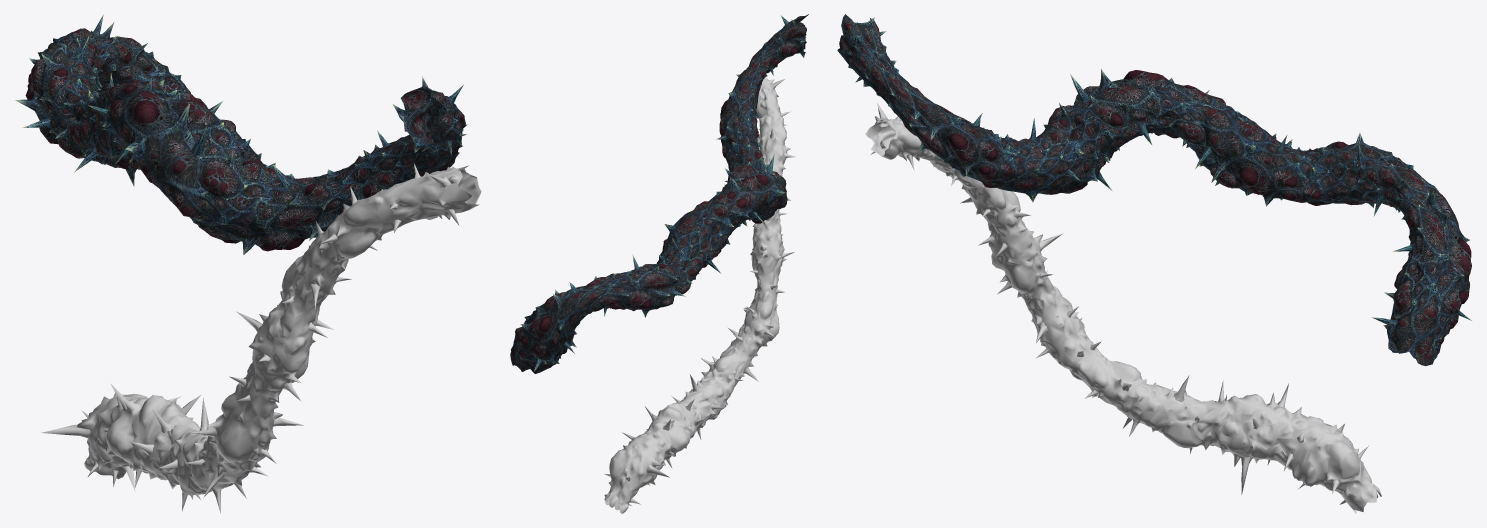
File: backup.fbx
3 views of the same model, side by side, from view 1: azimuth 30°, elevation 25°; view 2: azimuth 150°, elevation 25°; view 3: azimuth 270°, elevation 25° (orthographic). The views are drawn at different scales.
Visible parts, largest first — view 1: LODGroup_1_MainMesh_1_SubMesh_3, LODGroup_1_MainMesh_1_SubMesh_1, LODGroup_1_MainMesh_1_SubMesh_2; view 2: LODGroup_1_MainMesh_1_SubMesh_3, LODGroup_1_MainMesh_1_SubMesh_1, LODGroup_1_MainMesh_1_SubMesh_2; view 3: LODGroup_1_MainMesh_1_SubMesh_1, LODGroup_1_MainMesh_1_SubMesh_3, LODGroup_1_MainMesh_1_SubMesh_2.
Part boxes in pixels (bbox=[...]): LODGroup_1_MainMesh_1_SubMesh_3: bbox=[41, 163, 481, 513]; LODGroup_1_MainMesh_1_SubMesh_1: bbox=[15, 14, 466, 254]; LODGroup_1_MainMesh_1_SubMesh_2: bbox=[35, 32, 467, 237]; LODGroup_1_MainMesh_1_SubMesh_3: bbox=[604, 78, 795, 513]; LODGroup_1_MainMesh_1_SubMesh_1: bbox=[510, 15, 806, 371]; LODGroup_1_MainMesh_1_SubMesh_2: bbox=[530, 14, 808, 373]; LODGroup_1_MainMesh_1_SubMesh_1: bbox=[854, 17, 1471, 365]; LODGroup_1_MainMesh_1_SubMesh_3: bbox=[865, 102, 1381, 513]; LODGroup_1_MainMesh_1_SubMesh_2: bbox=[837, 14, 1469, 352].
Bounding box in the file's own units: 713 × 1470 × 1703.
